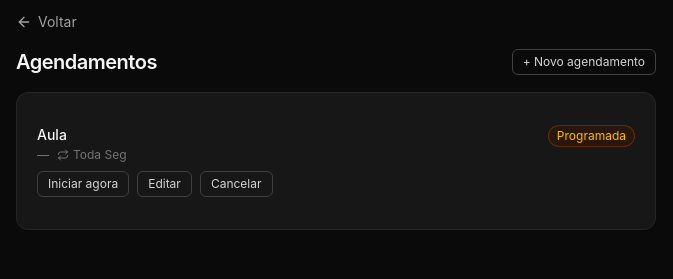
Scenario: Schedules › mostra a recusa do backend em vez de recarregar como se tivesse dado certo
The width and height of the screenshot is (673, 279).
Click the button "Iniciar agora". click: (83, 184)
box: [37,171,129,197]
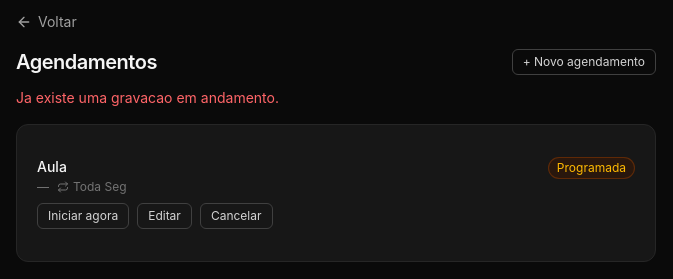
Result: the text "Ja existe uma gravacao em andamento." is shown at [16,89,279,106]
